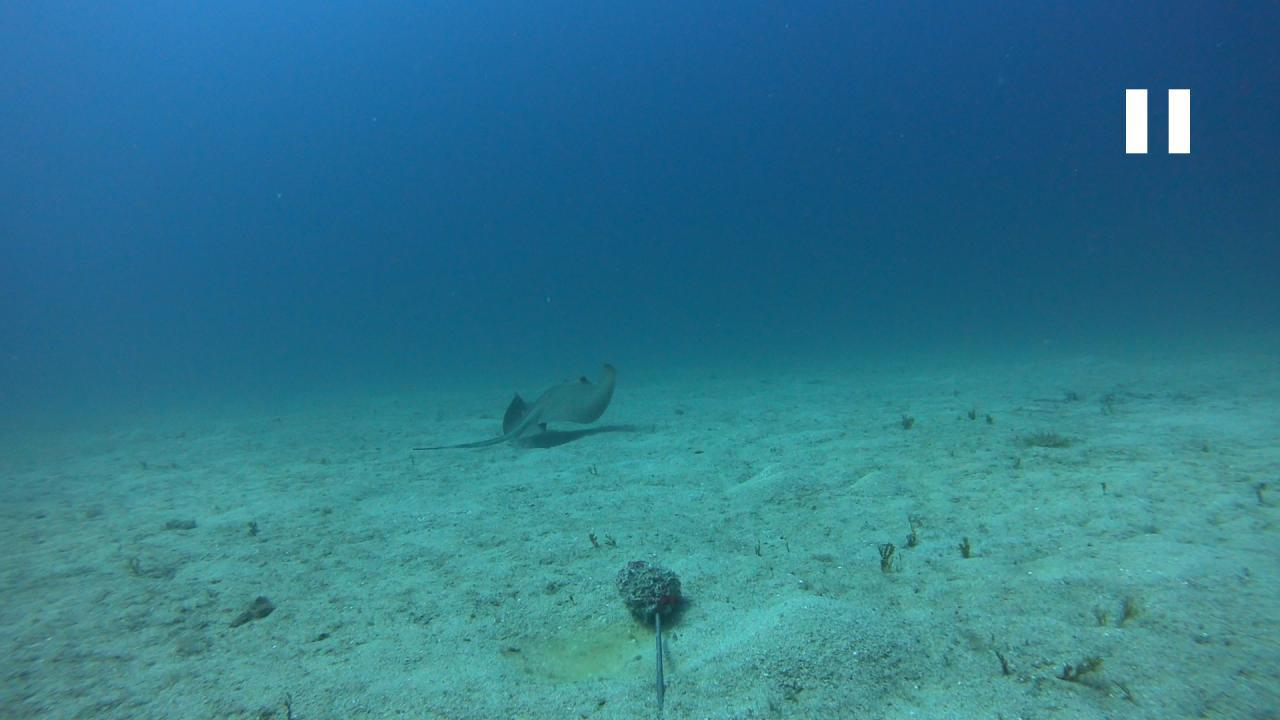dasyatis: (411, 362, 618, 450)
